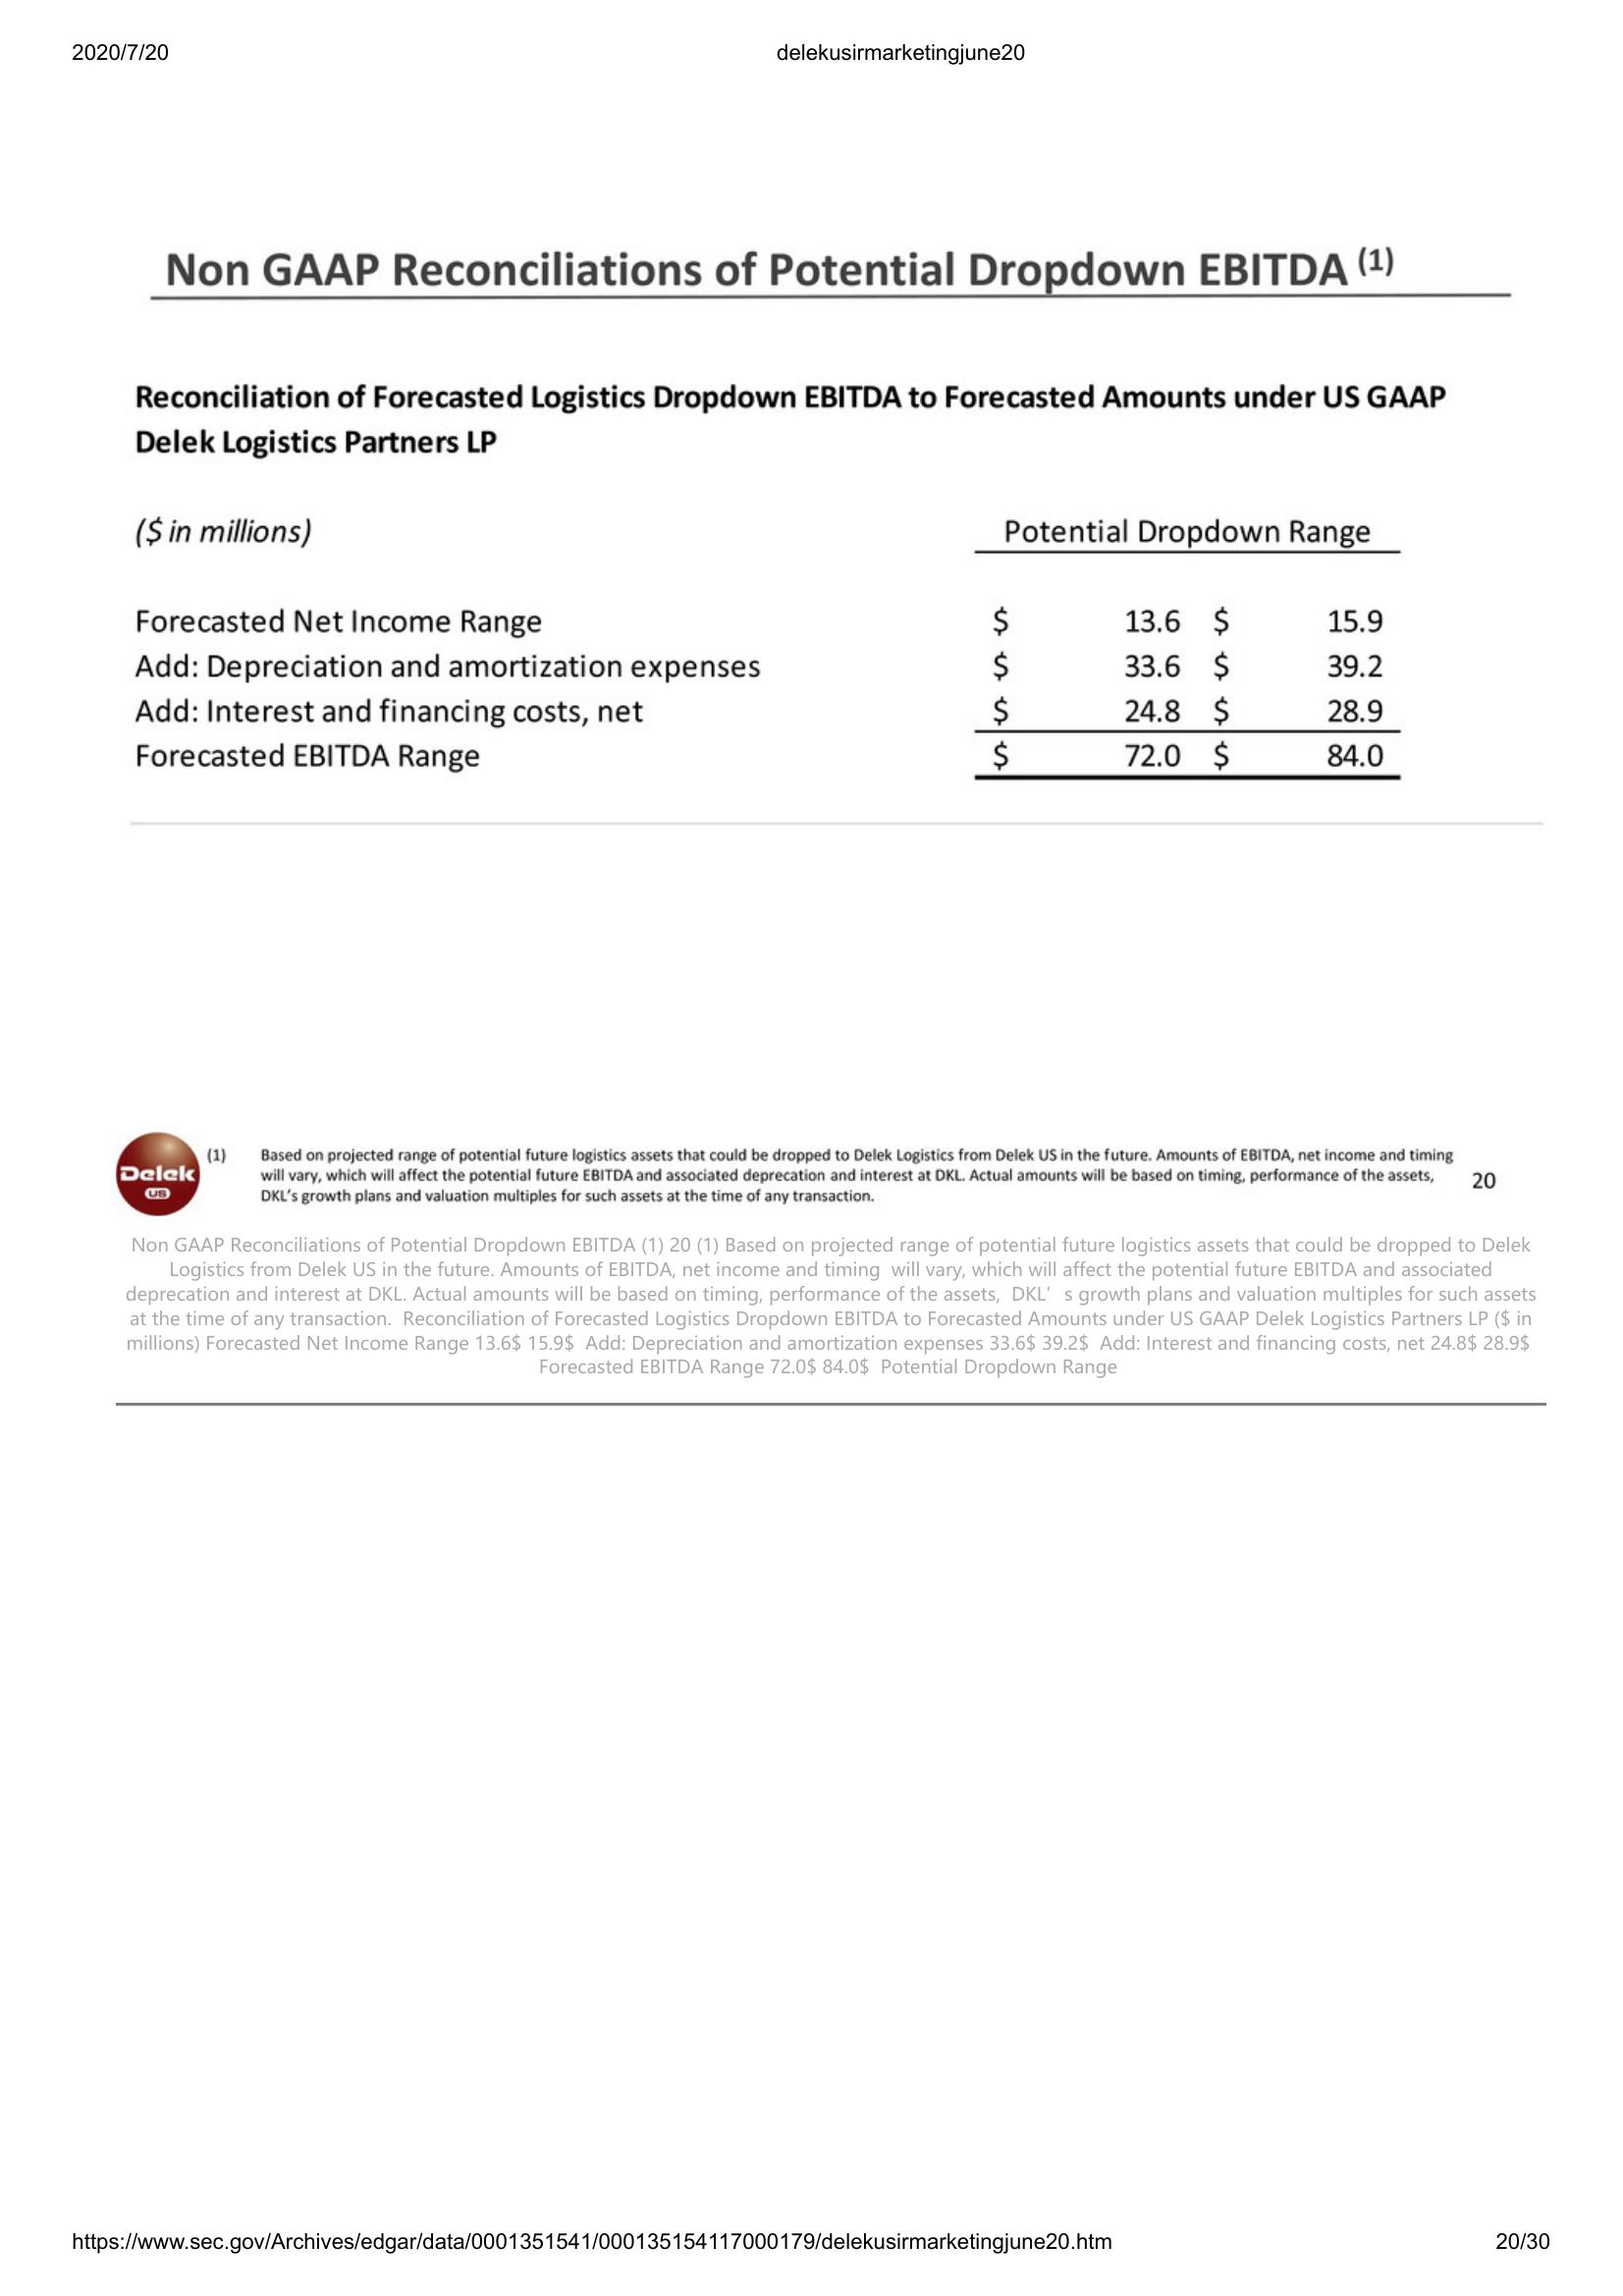table: (128, 499, 1414, 792)
